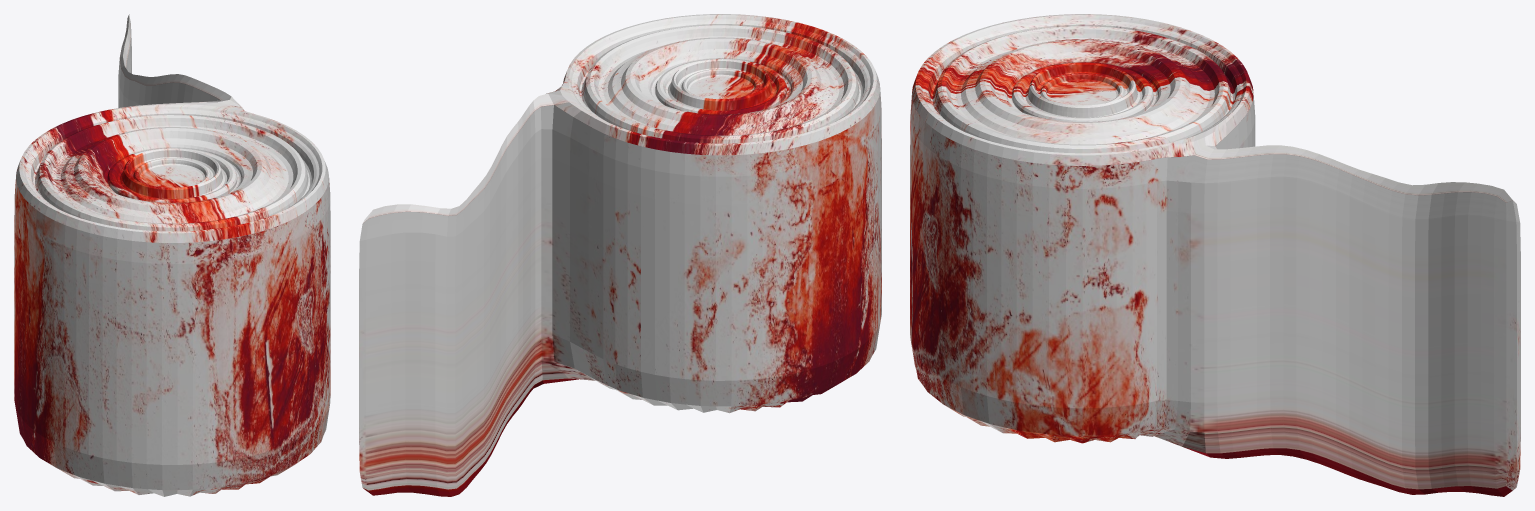
Rendered from Venda_02.fbx.
3 renders of one model, left to right at view 1: azimuth 30°, elevation 25°; view 2: azimuth 150°, elevation 25°; view 3: azimuth 270°, elevation 25°, orthographic. The views are drawn at different scales.
Visible parts, largest first — view 1: Cylinder.003; view 2: Cylinder.003; view 3: Cylinder.003.
Boxes of the visible parts, box(x1,y1,x2,y2) form: Cylinder.003: box(14, 14, 330, 496); Cylinder.003: box(359, 14, 881, 496); Cylinder.003: box(910, 14, 1520, 496).
Size of the model in its own units: 212 by 226 by 351.
